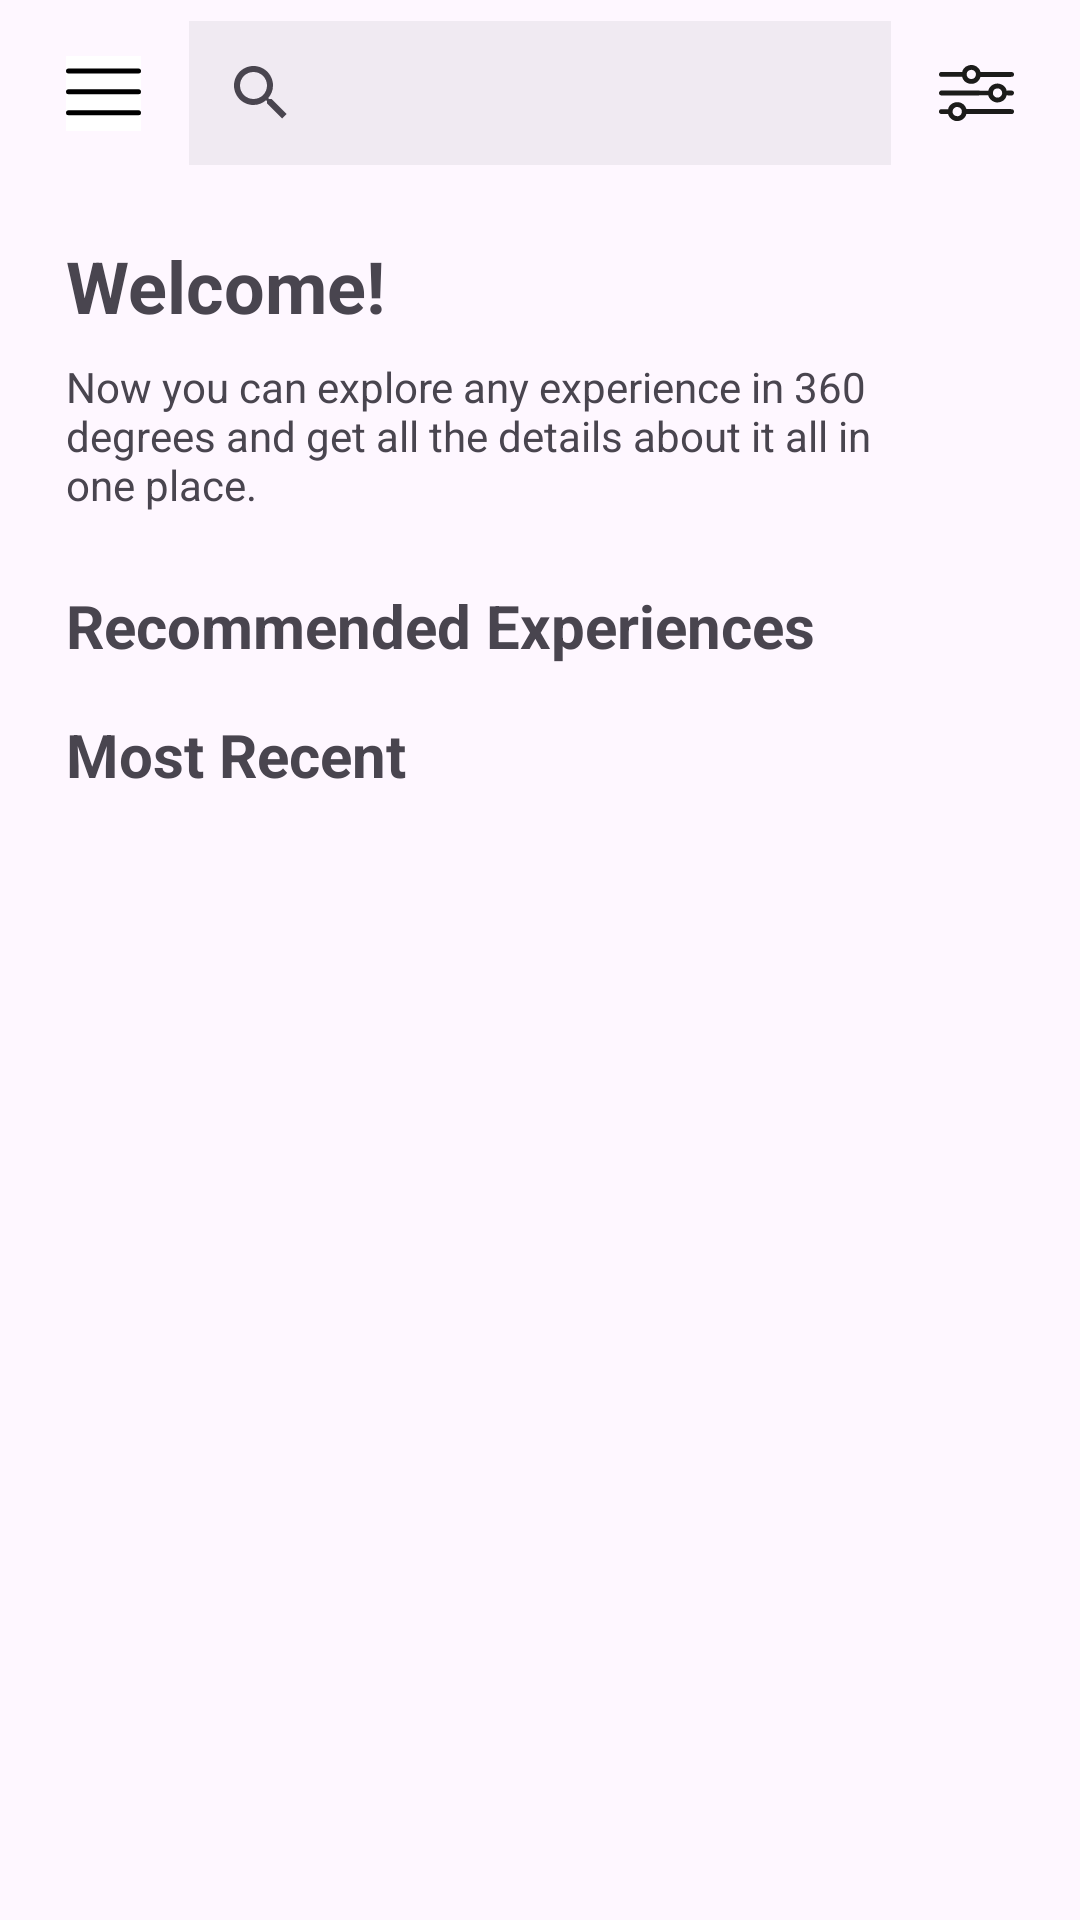

Locate icon controls on the screen. Image size 1080 x 1920, boxes as (x1, y1, x2, y2).
filter: (939, 65, 1014, 121)
menu: (66, 68, 141, 116)
